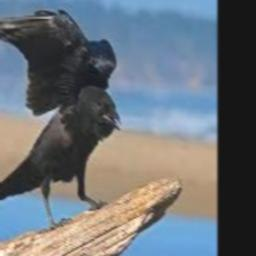Crow: (0, 8, 121, 233)
